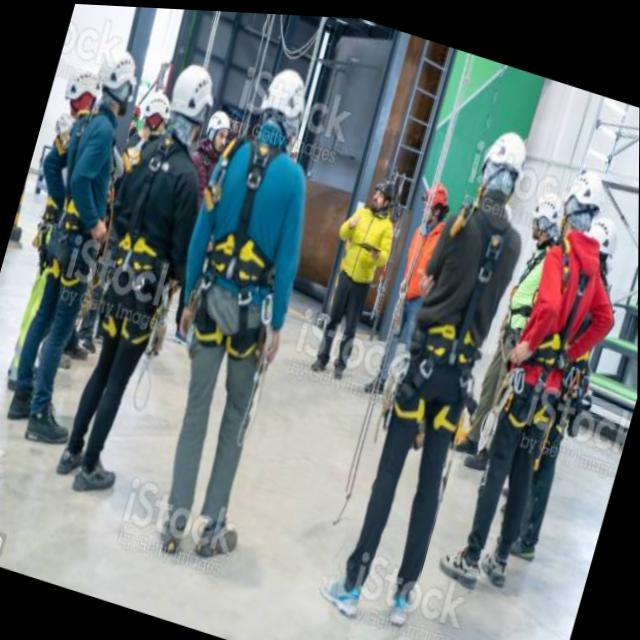belt: (162, 121, 322, 382), (388, 183, 524, 444), (83, 119, 209, 358), (494, 210, 606, 436), (22, 91, 138, 306), (498, 225, 554, 357)
